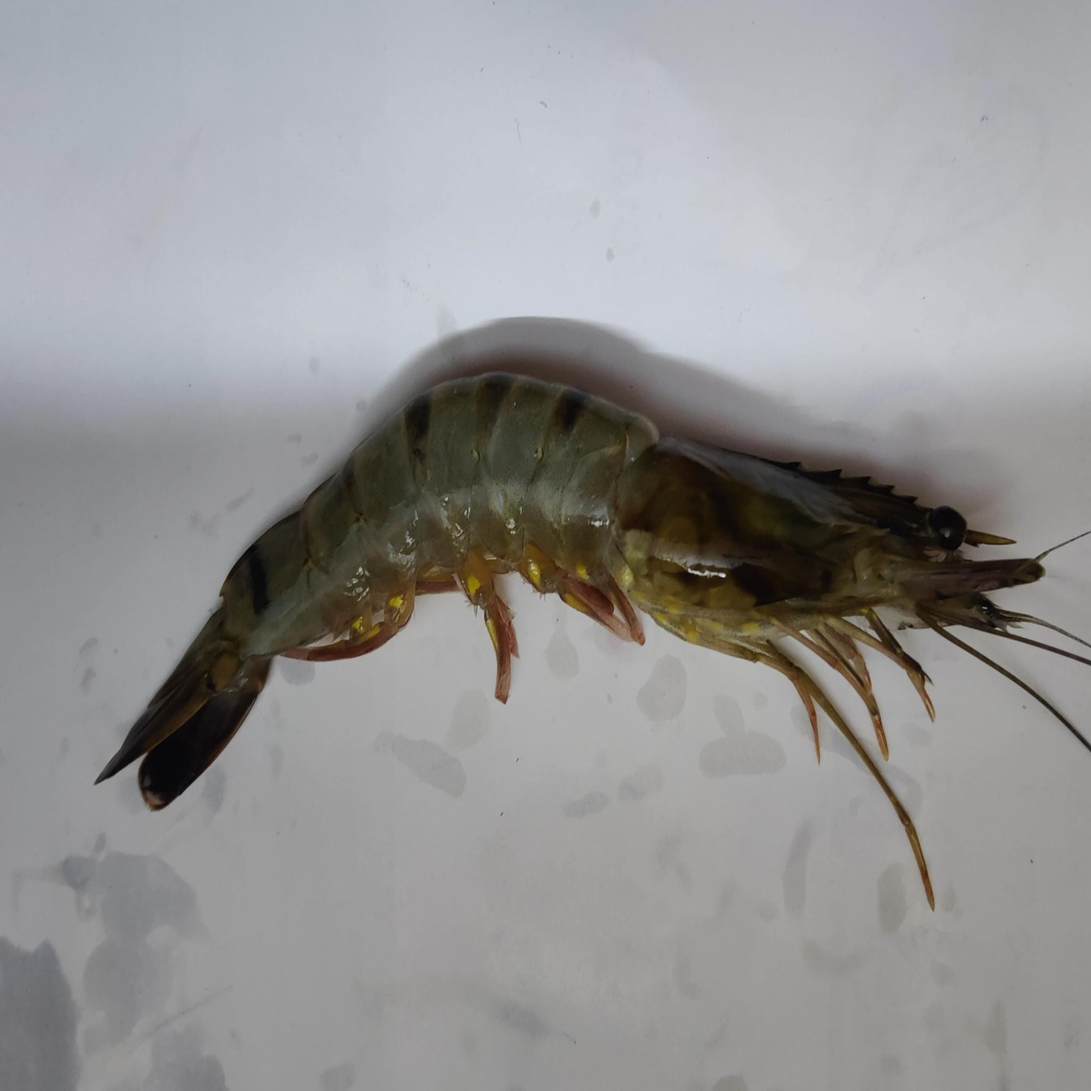blackgill: (448, 242, 609, 475)
